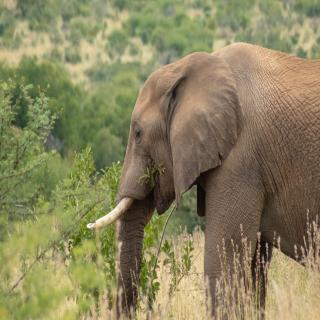Elephant: (86, 40, 320, 320)
